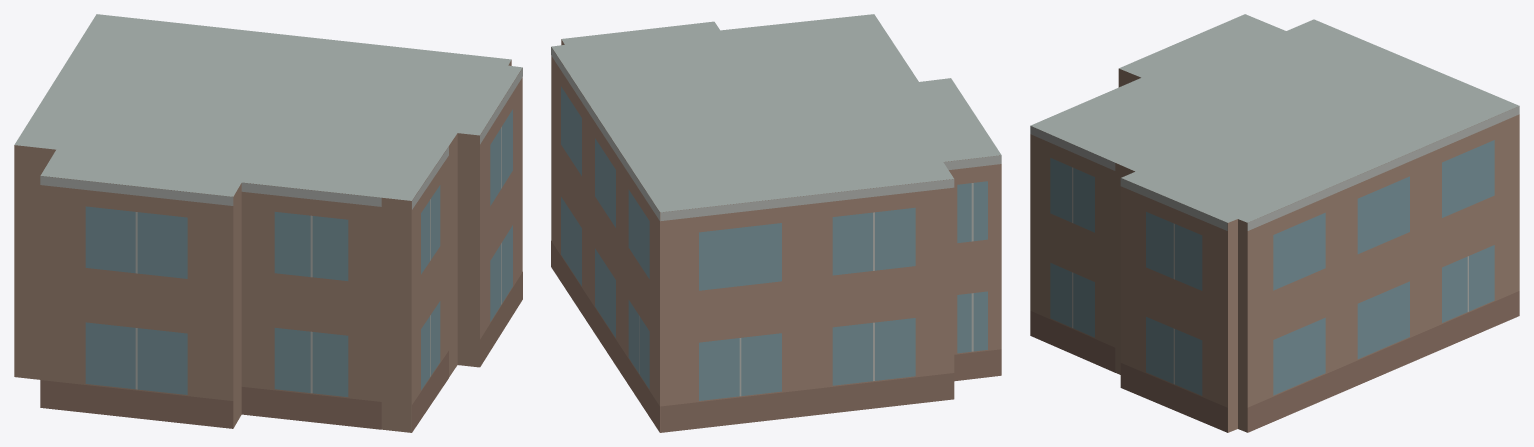
File: survey-upis-32779153.glb
The picture shows the model from 3 angles, left to right: view 1: azimuth 30°, elevation 25°; view 2: azimuth 150°, elevation 25°; view 3: azimuth 270°, elevation 25°; orthographic projection. The views are drawn at different scales.
Parts seen in each view (by area): view 1: survey-upis-32779153.tmp; view 2: survey-upis-32779153.tmp; view 3: survey-upis-32779153.tmp.
Boxes of the visible parts, x1,y1,x2,y2 form: survey-upis-32779153.tmp: (14,14,522,432); survey-upis-32779153.tmp: (551,14,1001,432); survey-upis-32779153.tmp: (1030,14,1519,432).
Size of the model in its own units: 13.02 by 6.1 by 12.89.
